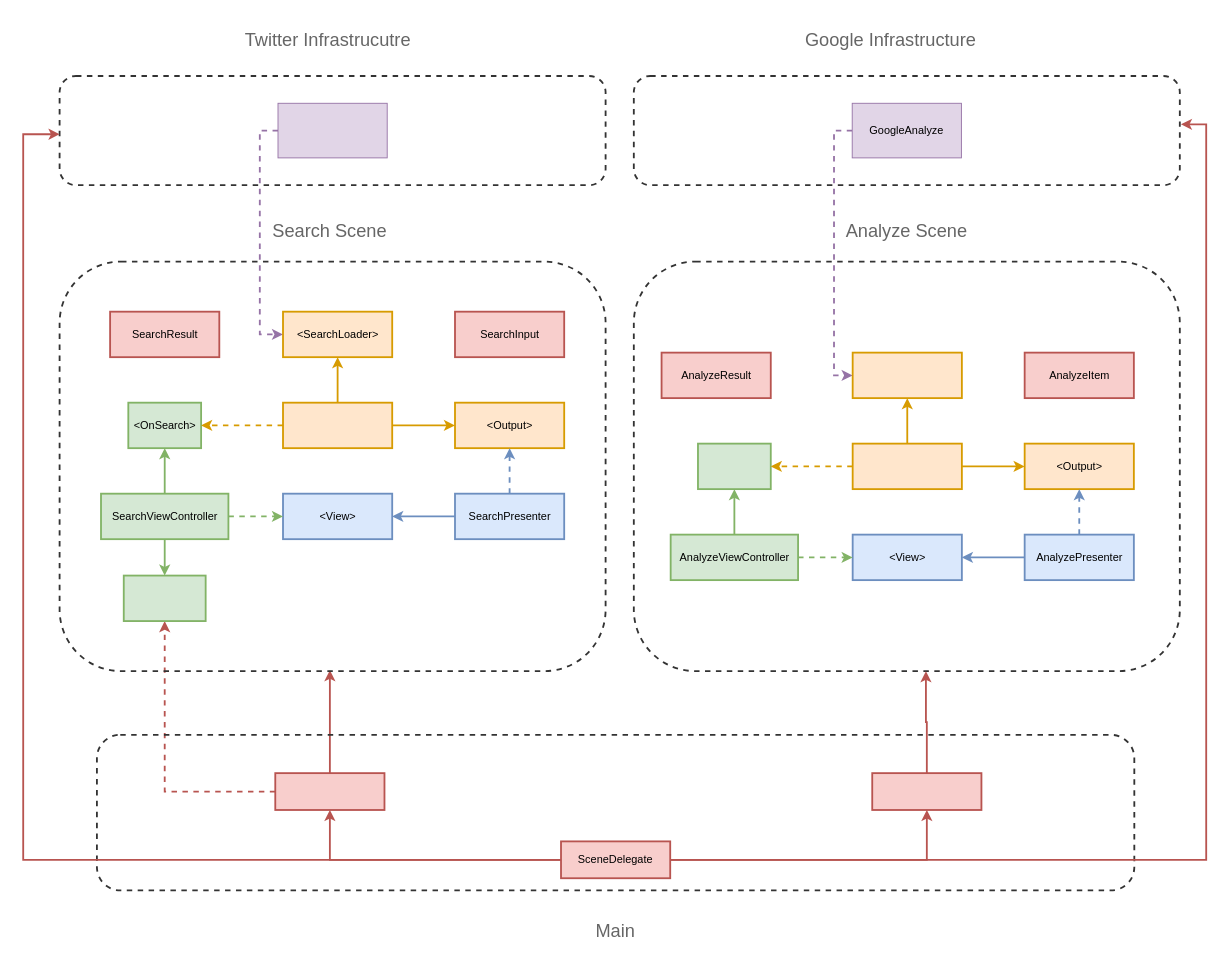
Some shapes in this 1229 by 968 pixel diagram are drawn without their labels. The centre of each missing label's shape, as x and y in pixels:
<AnalyzeLoader>: point (906, 375)
<OnLoad>: point (734, 466)
<OnSelection>: point (164, 598)
AnalyzeComposer: point (926, 791)
AnalyzeUseCase: point (906, 466)
SearchComposer: point (329, 791)
SearchUseCase: point (337, 425)
TwitterSearch: point (332, 130)
